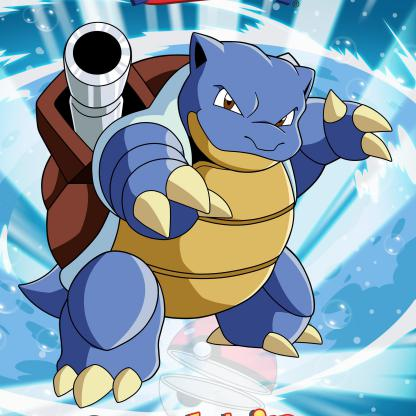Blastoise: (1, 1, 416, 407)
